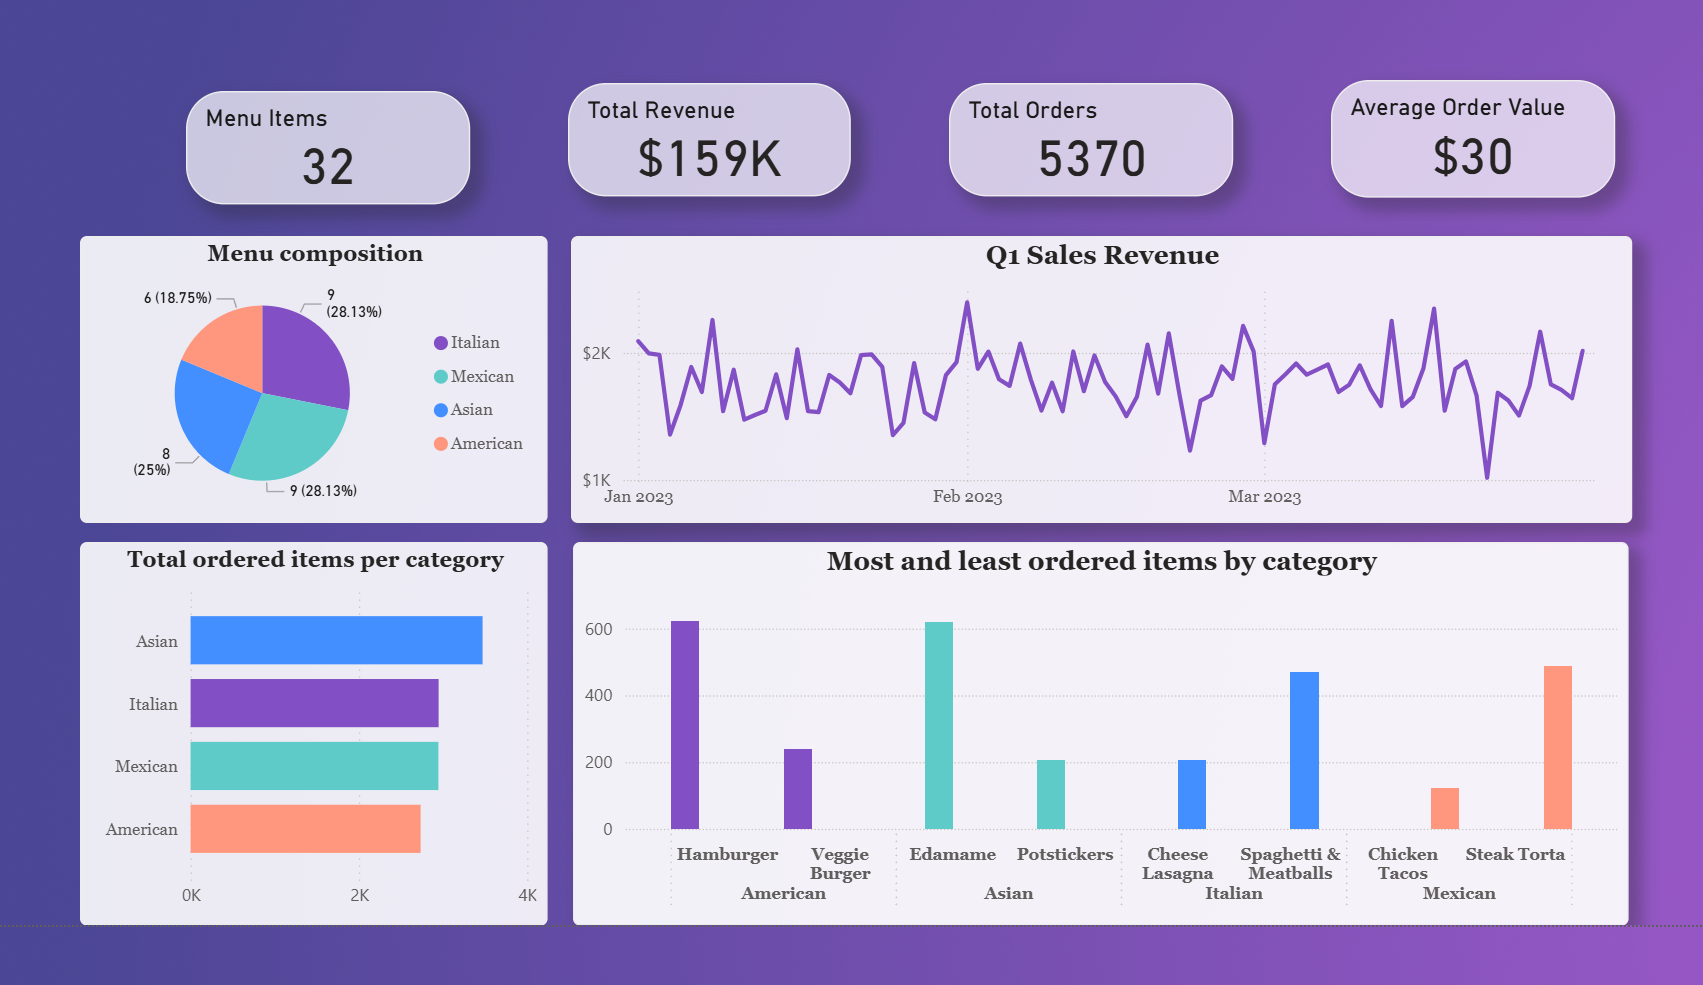

This screenshot's page, from the dashboard's own definition file:
{"tool":"powerbi","page":{"name":"Page 1","canvas":[1280,720],"ordinal":0},"visuals":[{"type":"pieChart","title":"Menu composition","fields":{"Category":["category.category"],"Series":["category.num_dishes"],"Y":["Max(category.num_dishes)"]},"box":[121.1,227.7,334.4,205.5],"z":0},{"type":"barChart","title":"Total ordered items per category","fields":{"Category":["mostordered food category.Category"],"Y":["Sum(mostordered food category.Ordered)"]},"box":[121.1,446.3,334.4,273.5],"z":1000},{"type":"lineChart","title":"Q1 Sales Revenue","fields":{"Category":["revenue.order_date.Variation.Date Hierarchy.Year","revenue.order_date.Variation.Date Hierarchy.Quarter","revenue.order_date.Variation.Date Hierarchy.Month","revenue.order_date.Variation.Date Hierarchy.Day"],"Y":["Sum(revenue.revenue)"]},"box":[471.1,227.9,757.6,205.2],"z":2000},{"type":"clusteredColumnChart","title":"Most and least ordered items by category","fields":{"Category":["minmax-category.category","minmax-category.item_name"],"Y":["Sum(minmax-category.total_orders)"],"Series":["minmax-category.category"]},"box":[473.1,446.4,753.6,273.9],"z":3000},{"type":"card","title":"Total Revenue","fields":{"Values":["Sum(restaurant_db behavior.price)"]},"box":[469.3,118.6,202.1,81.4],"z":4000},{"type":"card","title":"Total Orders","fields":{"Values":["Max(restaurant_db behavior.order_id)"]},"box":[741.4,118.6,202.9,81.4],"z":5000},{"type":"card","title":"Menu Items","fields":{"Values":["CountNonNull(restaurant_db menu_items.menu_item_id)"]},"box":[196.4,124.3,202.9,81.4],"z":6000},{"type":"card","title":"Average Order Value","fields":{"Values":["category.Sum of price divided by Max of order_id"]},"box":[1014.3,116.4,202.9,83.6],"z":7000}]}

Visuals, with their boxes in screenshot pixels (x1, y1, x2, y2), scaled from the page's 1280x720 canvas onto the 1703x985 screenshot:
"Menu composition" pieChart: rect(161, 312, 606, 593)
"Total ordered items per category" barChart: rect(161, 611, 606, 984)
"Q1 Sales Revenue" lineChart: rect(627, 312, 1635, 593)
"Most and least ordered items by category" clusteredColumnChart: rect(629, 611, 1632, 984)
"Total Revenue" card: rect(624, 162, 893, 274)
"Total Orders" card: rect(986, 162, 1256, 274)
"Menu Items" card: rect(261, 170, 531, 281)
"Average Order Value" card: rect(1349, 159, 1619, 274)
